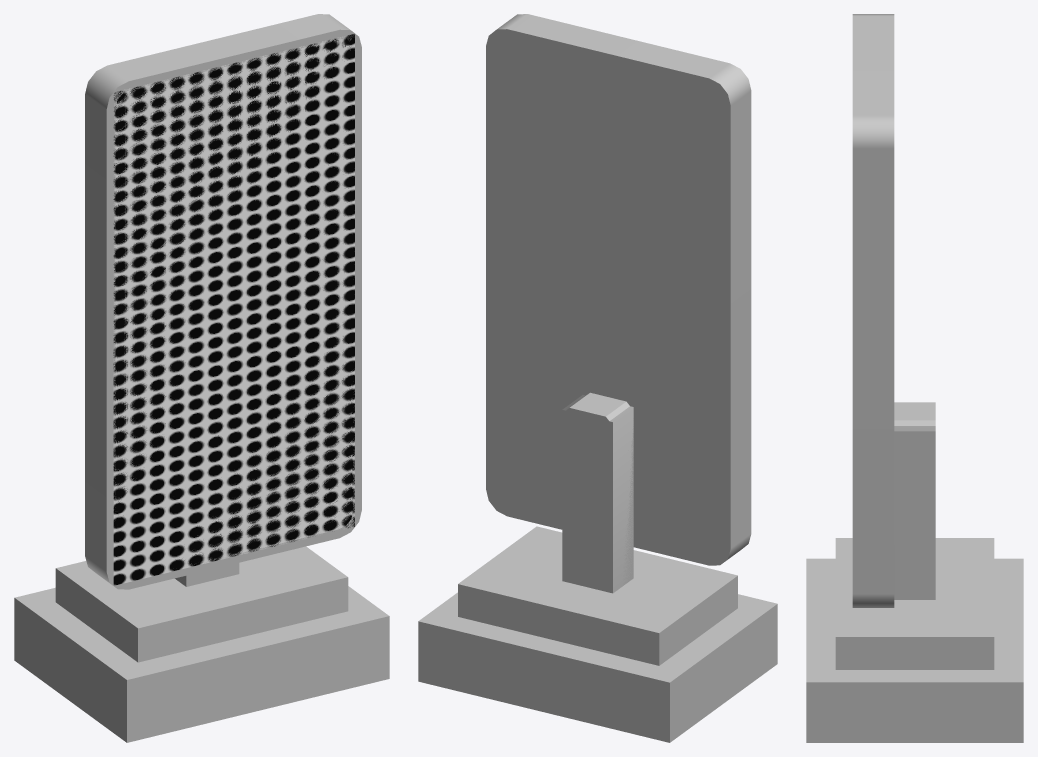
The model's file is Stand_Video_Broadcaster.fbx.
3 views of the same model, side by side, from view 1: azimuth 30°, elevation 25°; view 2: azimuth 150°, elevation 25°; view 3: azimuth 270°, elevation 25° (orthographic). The views are drawn at different scales.
Visible parts, largest first — view 1: Broadcaster_L0, Broadcaster_L1; view 2: Broadcaster_L0, Broadcaster_L1; view 3: Broadcaster_L0.
Part boxes in pixels (left/top/right/bottom): Broadcaster_L0: left=14, top=14, right=389, bottom=742; Broadcaster_L1: left=113, top=33, right=354, bottom=586; Broadcaster_L0: left=418, top=14, right=777, bottom=742; Broadcaster_L1: left=492, top=33, right=723, bottom=593; Broadcaster_L0: left=806, top=14, right=1023, bottom=742.
Bounding box in the file's own units: 2.4 × 5.59 × 1.79.
